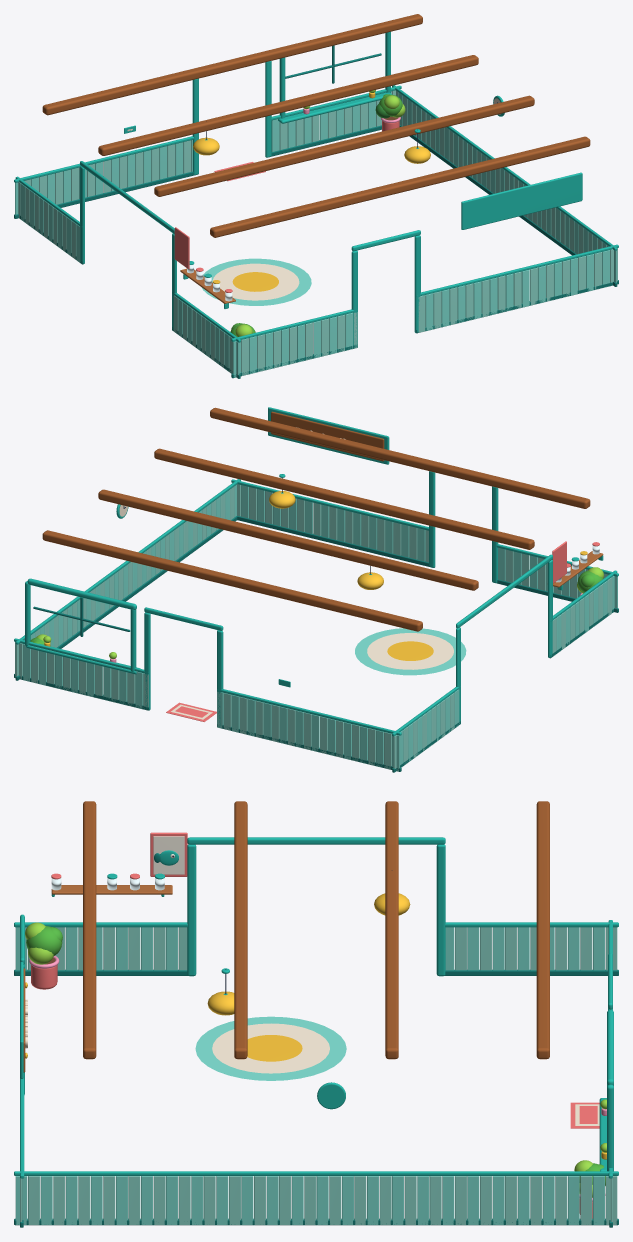
The model's file is UnitADressing.fbx.
3 views of the same model, one above another, from view 1: azimuth 30°, elevation 25°; view 2: azimuth 150°, elevation 25°; view 3: azimuth 270°, elevation 25° (orthographic). The views are drawn at different scales.
Parts seen in each view (by area): view 1: UnitADressing mesh; view 2: UnitADressing mesh; view 3: UnitADressing mesh.
Part boxes in pixels (x1,y1,x2,y2): UnitADressing mesh: (14, 14, 618, 378); UnitADressing mesh: (14, 407, 618, 772); UnitADressing mesh: (14, 801, 618, 1227).
Size of the model in its own units: 10 by 3.2 by 10.
